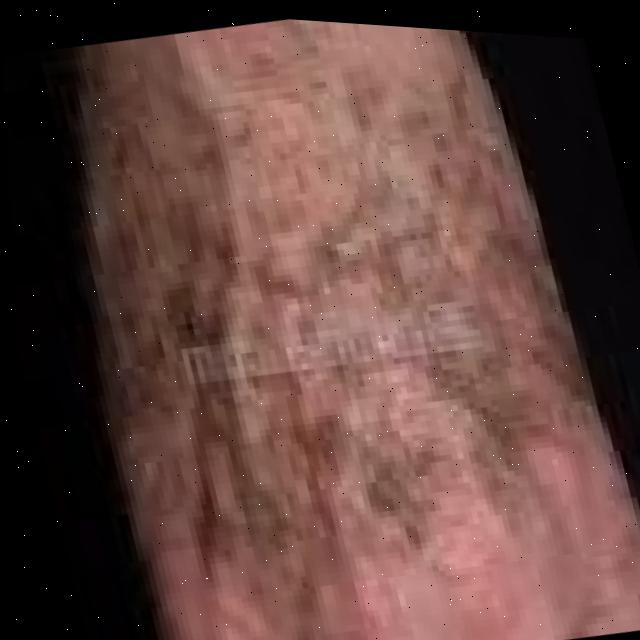Melasma: (71, 74, 567, 571)
